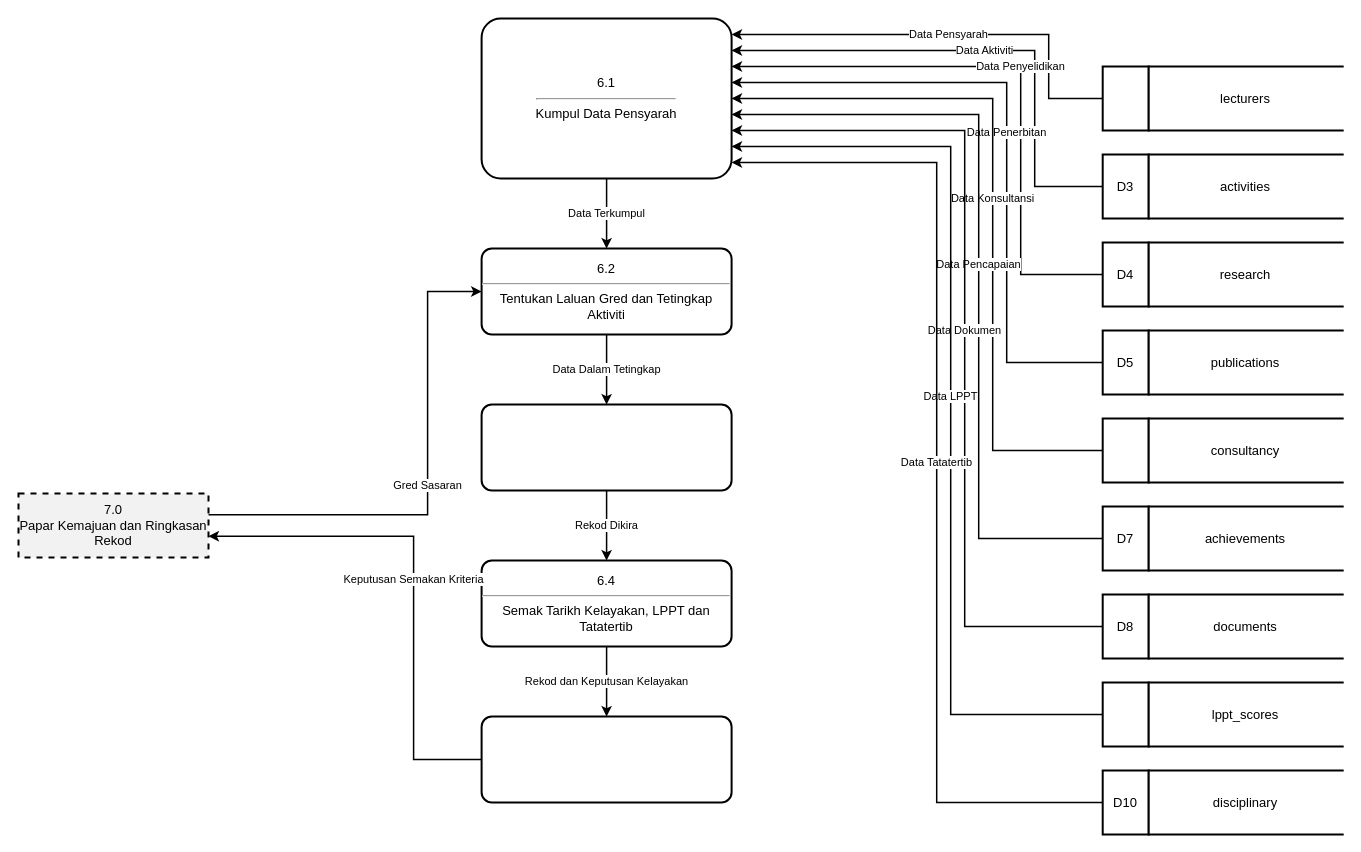
This 1361x852 diagram has some shape labels left out. Each missing label, with the centre of its shape:
6.3 Kira Rekod yang Layak: (x=606, y=447)
6.5 Jana Senarai Semak dan Jurang: (x=606, y=759)
D2: (x=1125, y=98)
D6: (x=1125, y=450)
D9: (x=1125, y=714)
